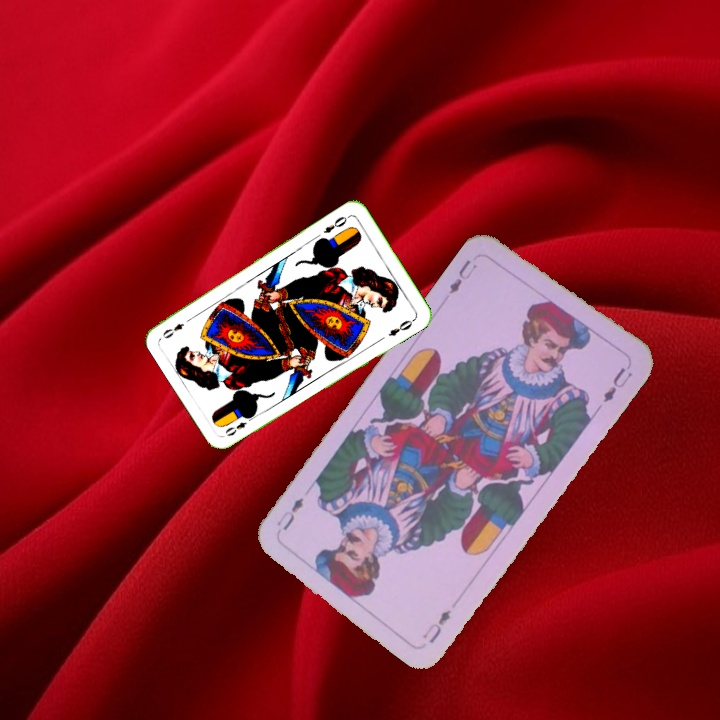EO: (221, 412, 257, 439), (319, 211, 353, 236)
EU: (418, 605, 454, 646), (445, 255, 480, 297)
